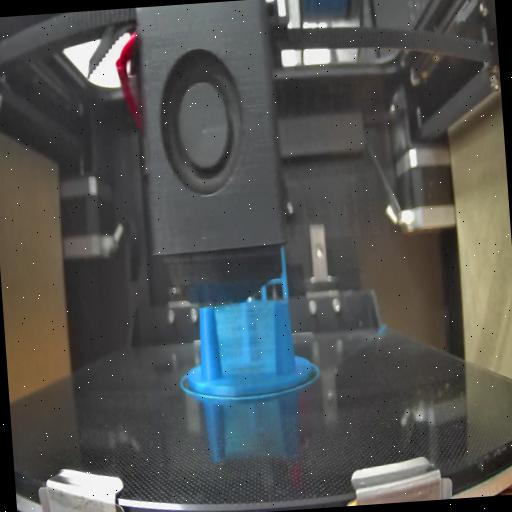stringing: (215, 300, 279, 380)
